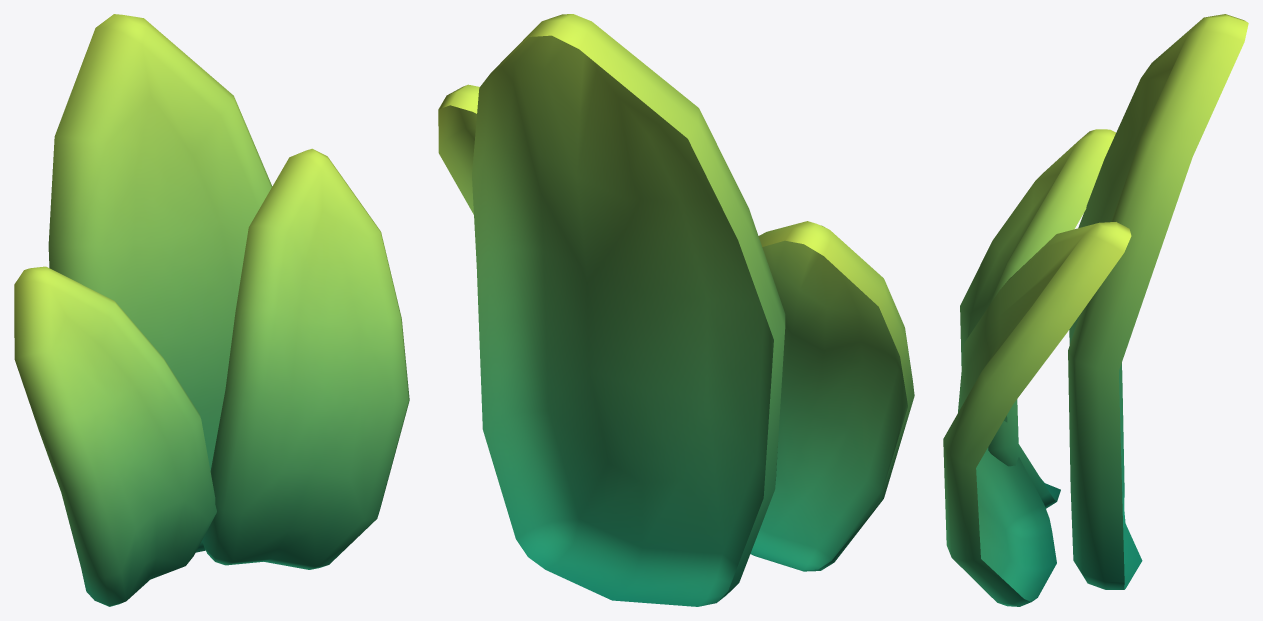
The model's file is grass_v2.fbx.
3 views of the same model, side by side, from view 1: azimuth 30°, elevation 25°; view 2: azimuth 150°, elevation 25°; view 3: azimuth 270°, elevation 25° (orthographic). The views are drawn at different scales.
Parts seen in each view (by area): view 1: grass1; view 2: grass1; view 3: grass1.
Boxes of the visible parts, bbox=[...] form: grass1: bbox=[14, 14, 409, 606]; grass1: bbox=[438, 14, 914, 606]; grass1: bbox=[943, 14, 1248, 606].
Size of the model in its own units: 97.56 by 130 by 66.38.
